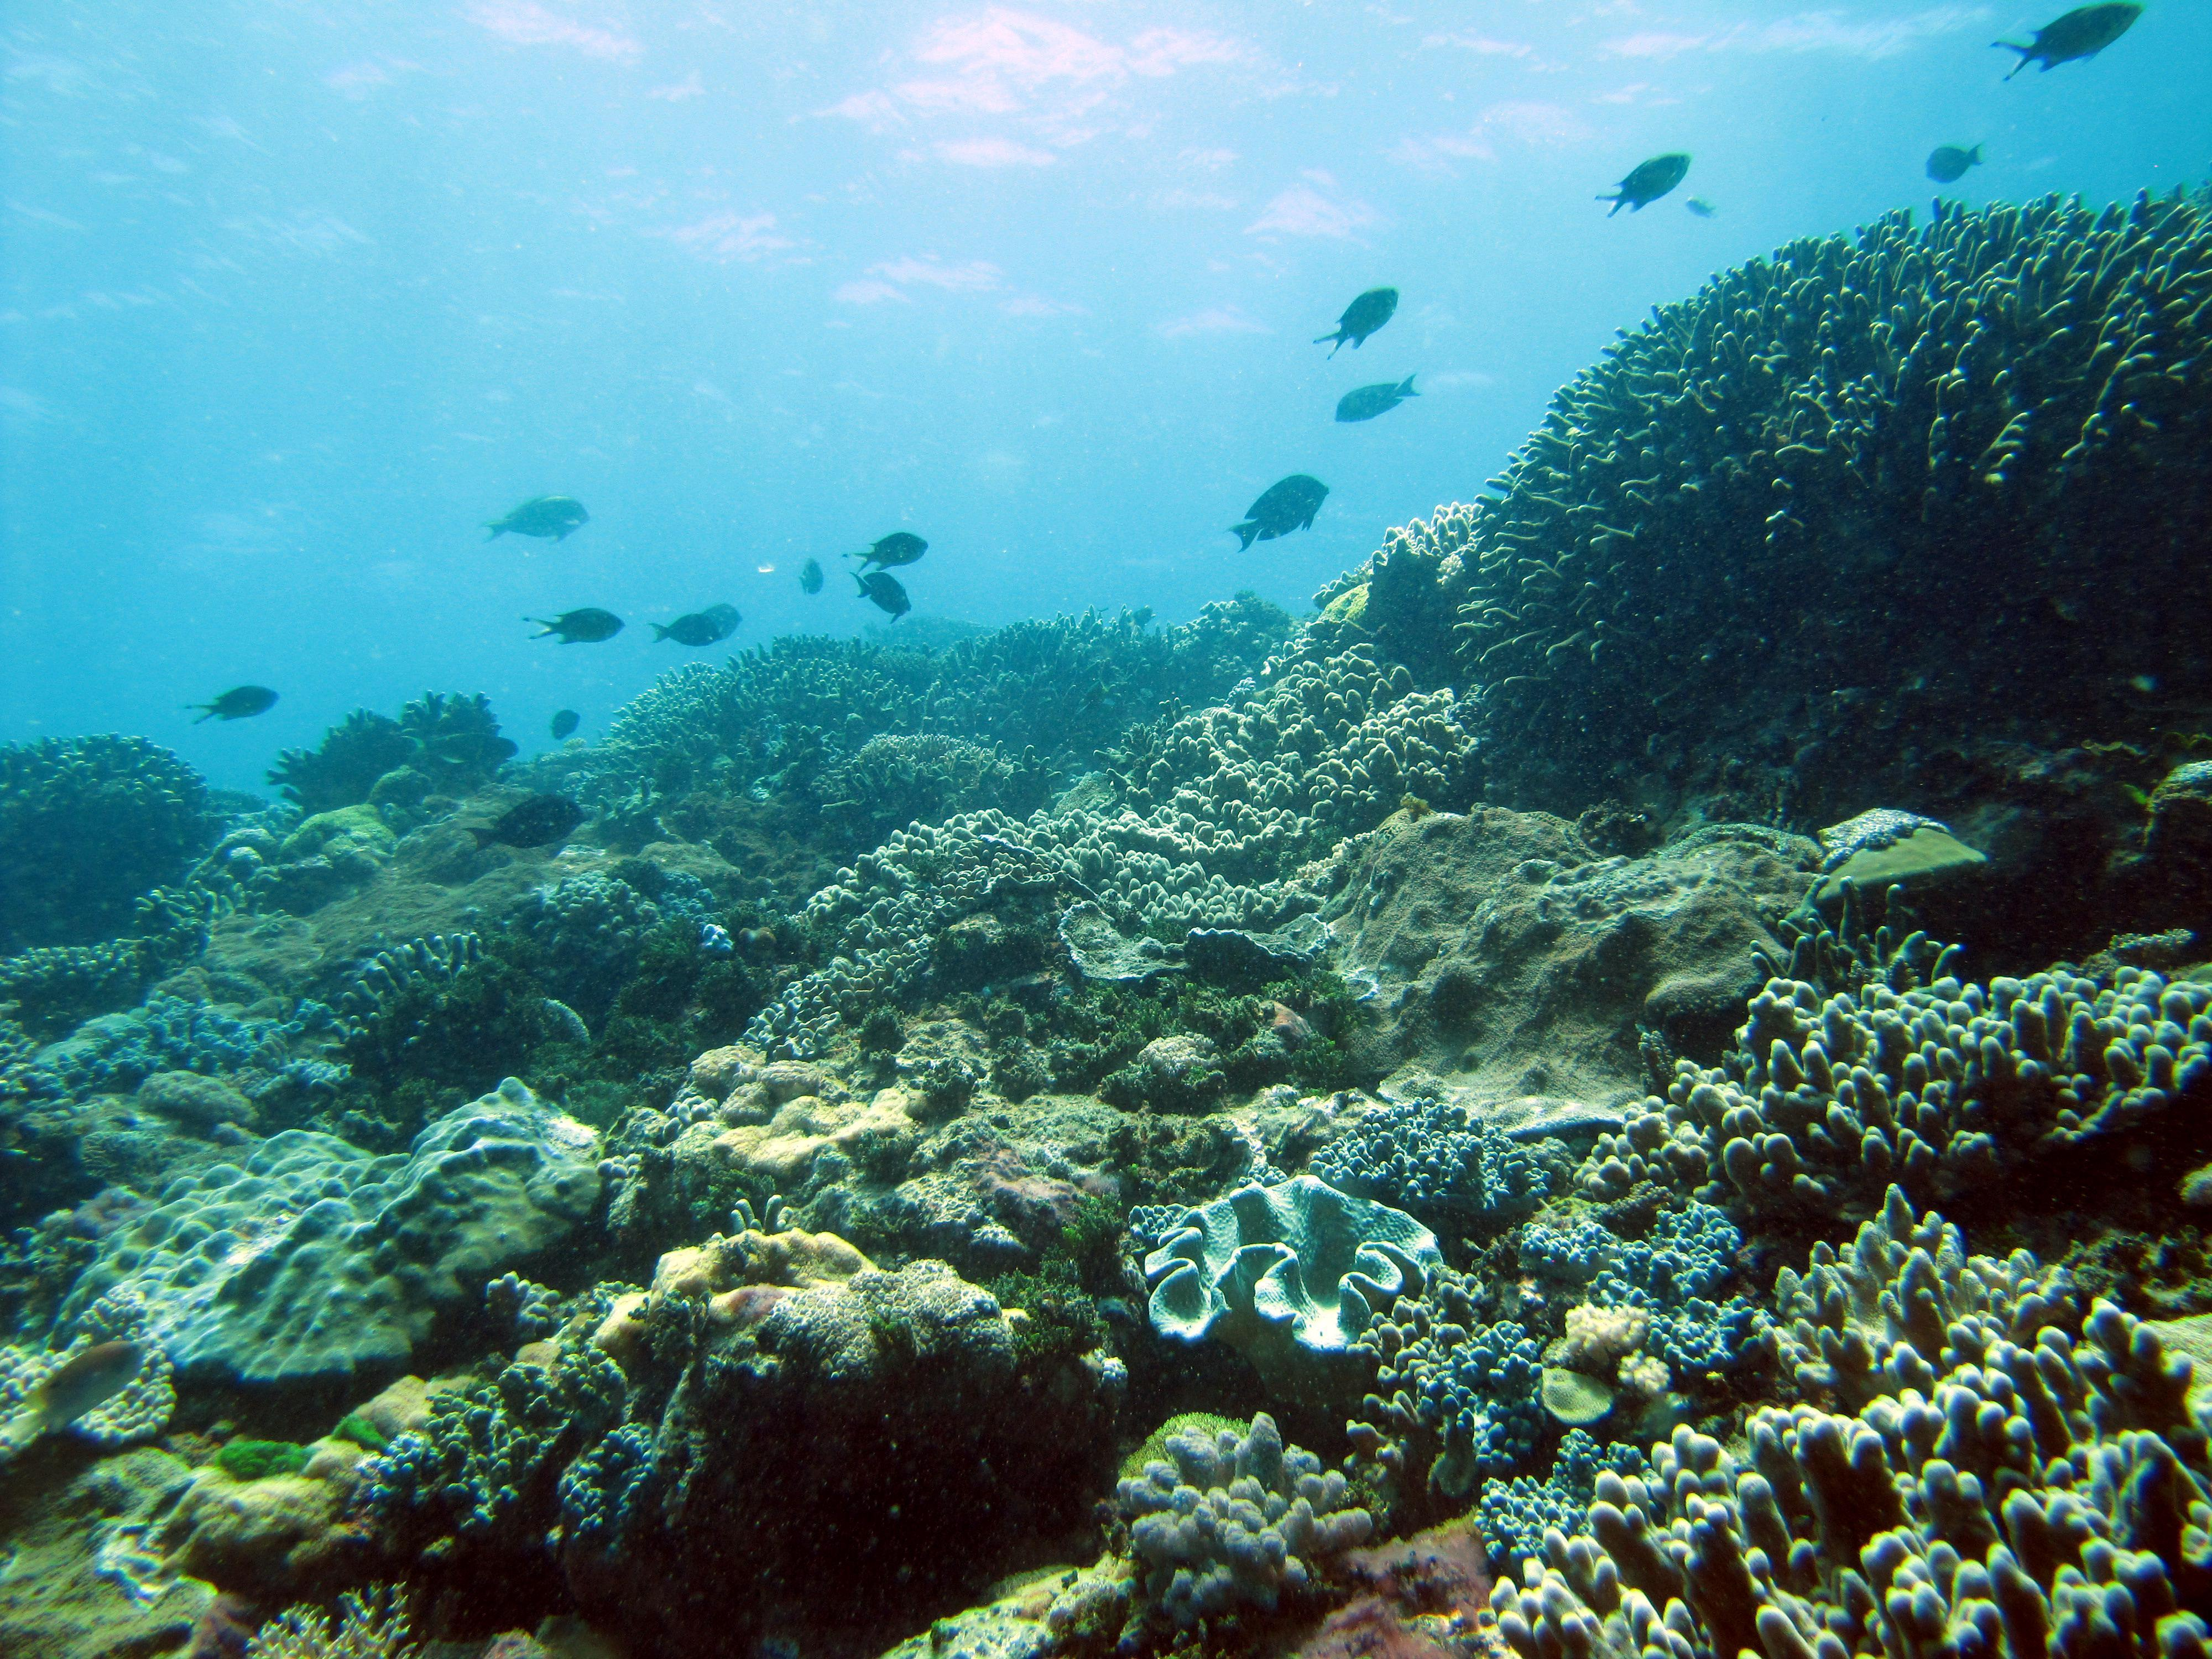Chromis weberi: (1975, 0, 2174, 105), (460, 472, 650, 565), (1186, 460, 1341, 565), (172, 662, 320, 756), (493, 587, 632, 680), (1573, 134, 1712, 220), (1299, 263, 1411, 354), (1308, 371, 1442, 446), (836, 561, 923, 633), (648, 599, 719, 667), (850, 519, 935, 570)
